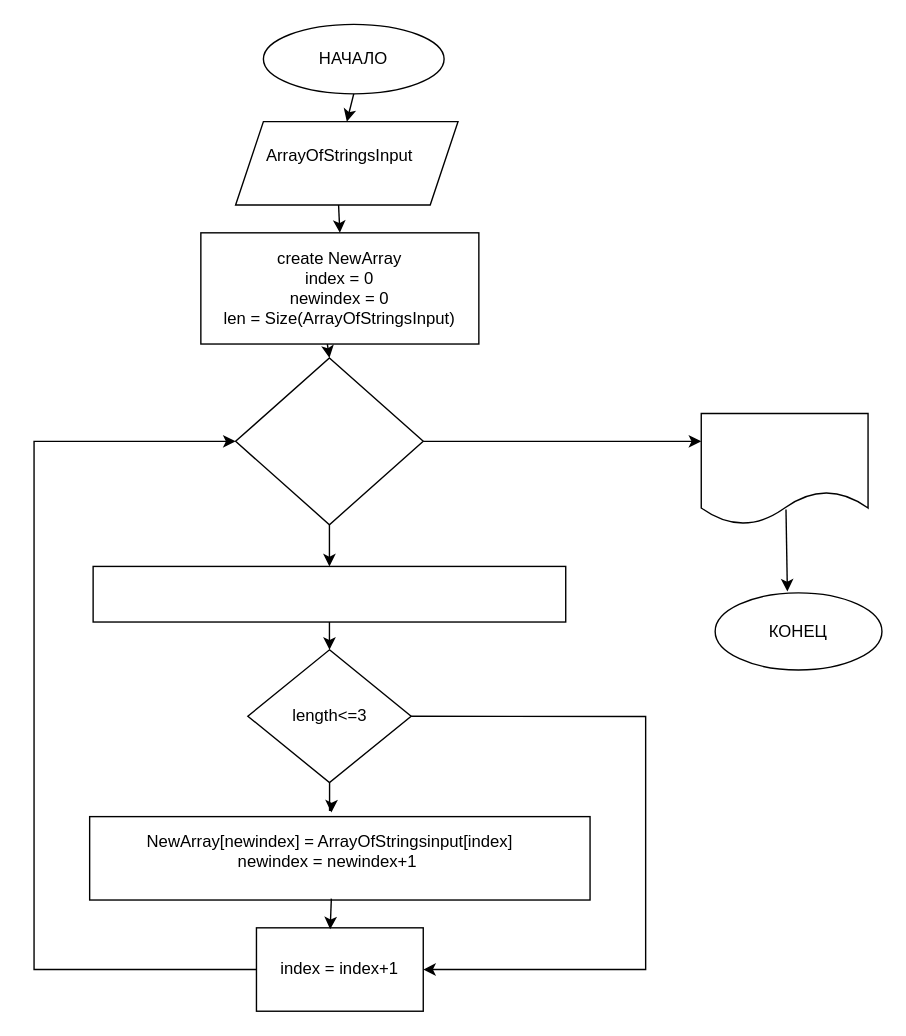
Image size: 906x1036. Some labels were removed from this diagram. The shapes that lost their labels are listed below. From the top down, each one's box as (x1, y1, x2, y2) in pixels, then its label:
(234, 357, 423, 525): index<len
(700, 412, 868, 525): NewArray
(92, 565, 566, 622): length = Length(ArrayOfStringsInput[index])
